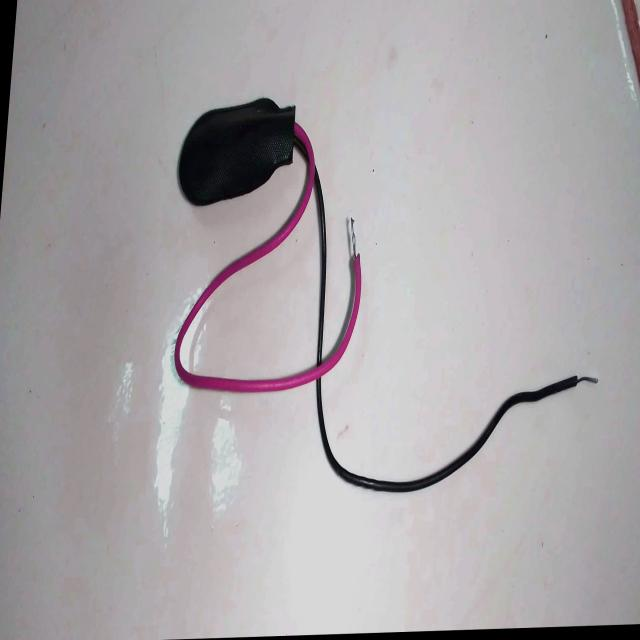Battery Holder: (150, 88, 384, 432)
